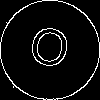O: (25, 25, 73, 78)
